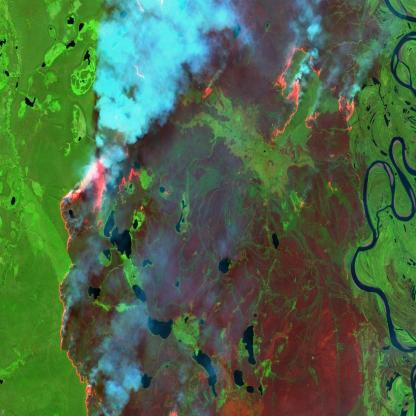fire: (53, 154, 146, 416), (259, 34, 359, 150), (126, 0, 193, 52), (196, 76, 225, 105)
